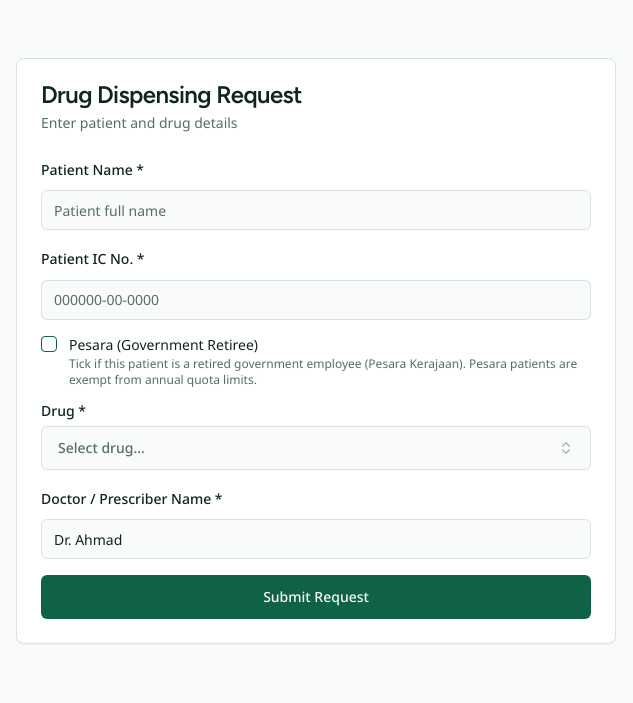
Scenario: DoctorRequest Zod validation messages › shows 'Patient name is required' when submitting empty form
The width and height of the screenshot is (633, 703).
Find submit button by current Malay or future English name
Click the button "Submit Request" at (316, 597), box [41,575,591,619]
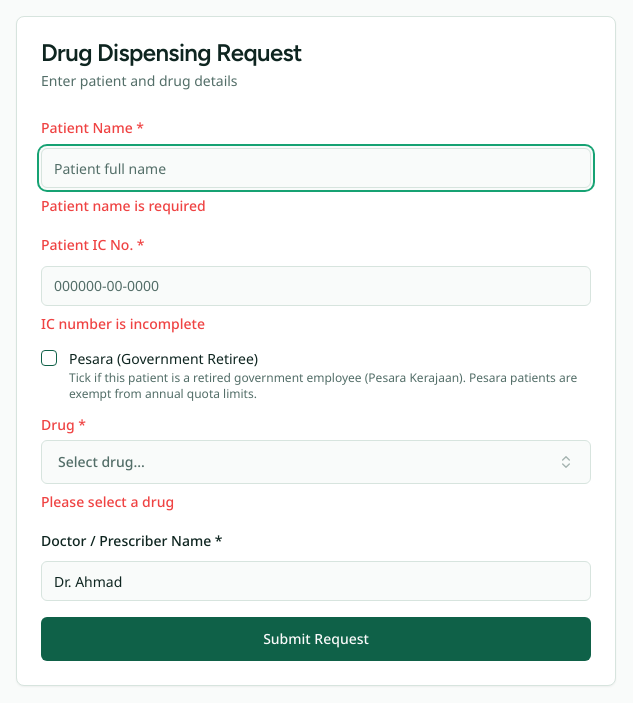
Expected: the text "Patient name is required" is shown, [41,196,206,215]
